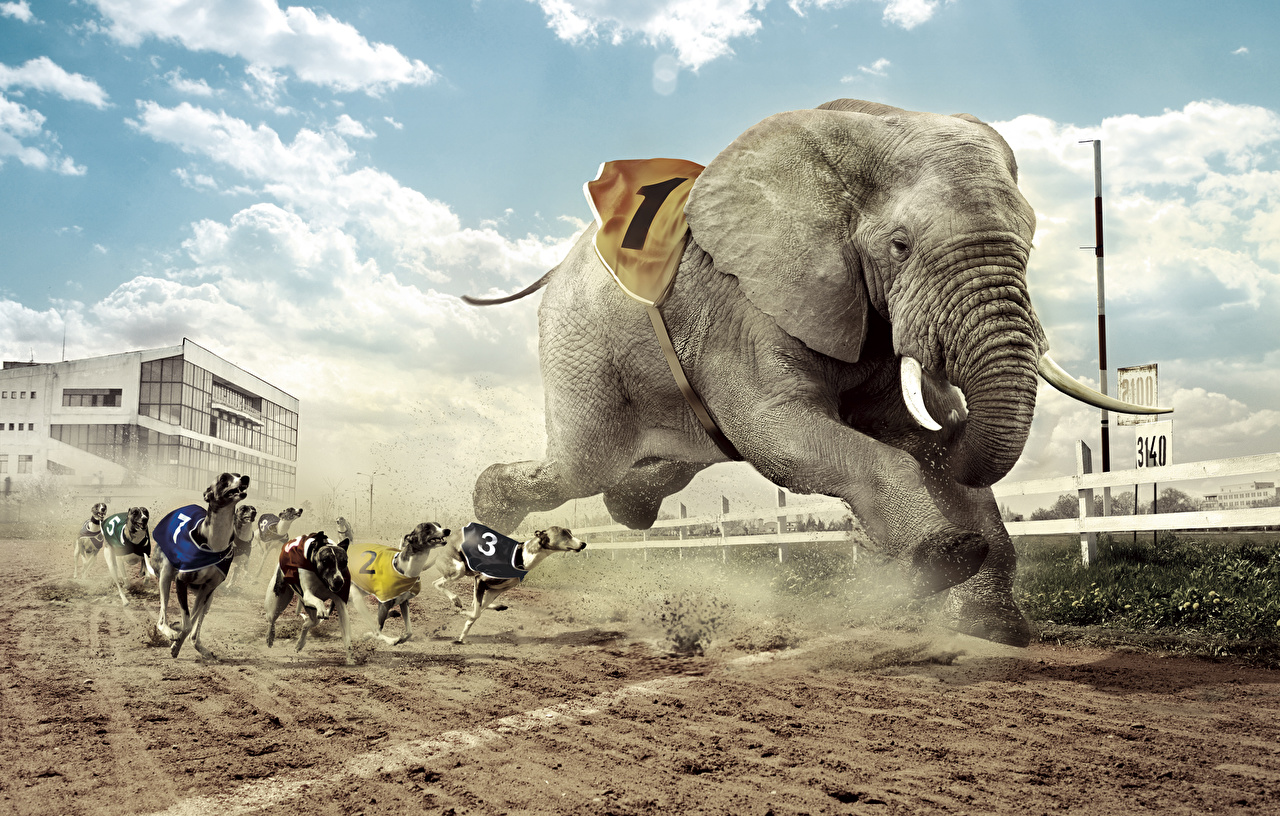dog: (152, 470, 246, 660), (446, 514, 588, 628), (342, 518, 452, 638), (250, 530, 356, 646), (98, 500, 172, 604), (260, 496, 302, 556)
elephant: (484, 106, 1102, 676)
